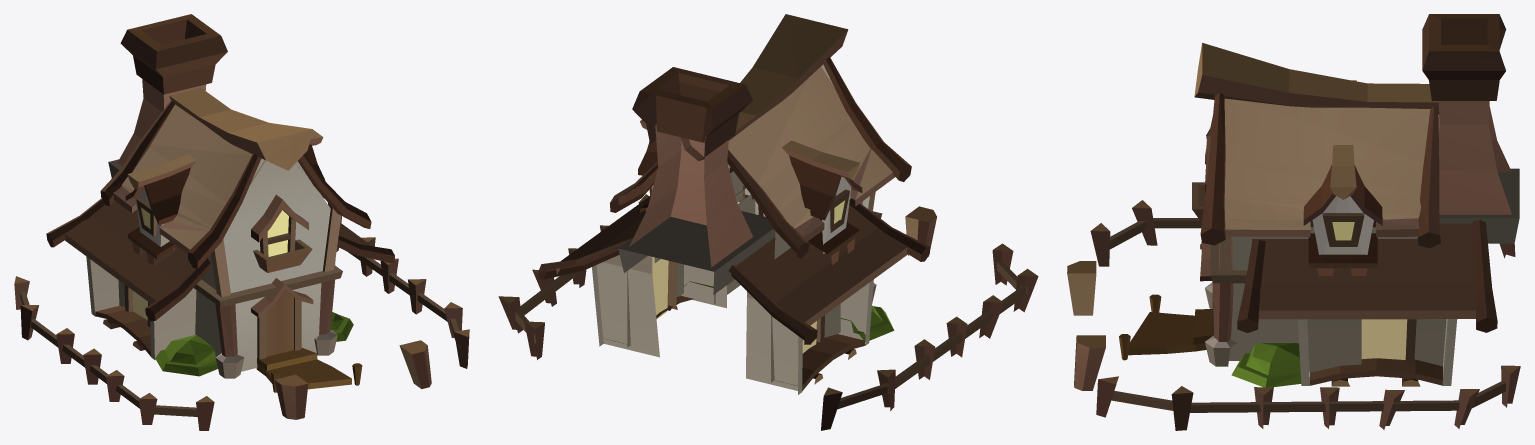
Rendered from building42.fbx.
3 renders of one model, left to right at view 1: azimuth 30°, elevation 25°; view 2: azimuth 150°, elevation 25°; view 3: azimuth 270°, elevation 25°, orthographic. The views are drawn at different scales.
Parts seen in each view (by area): view 1: building42; view 2: building42; view 3: building42.
Boxes of the visible parts, left/top/right/bottom form: building42: left=14, top=14, right=469, bottom=430; building42: left=498, top=14, right=1038, bottom=430; building42: left=1067, top=14, right=1520, bottom=430.
Size of the model in its own units: 3.16 by 2.25 by 3.04.
1 material, 1 textured.
